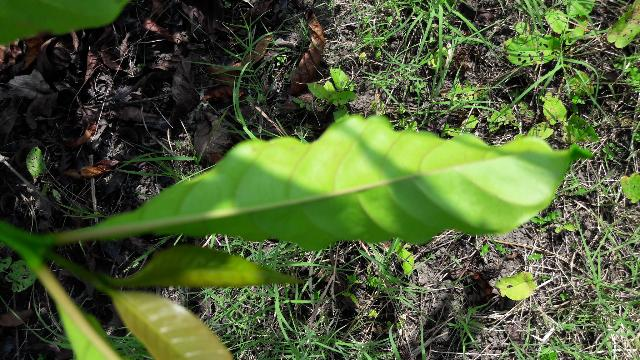healthy: (60, 106, 605, 253)
